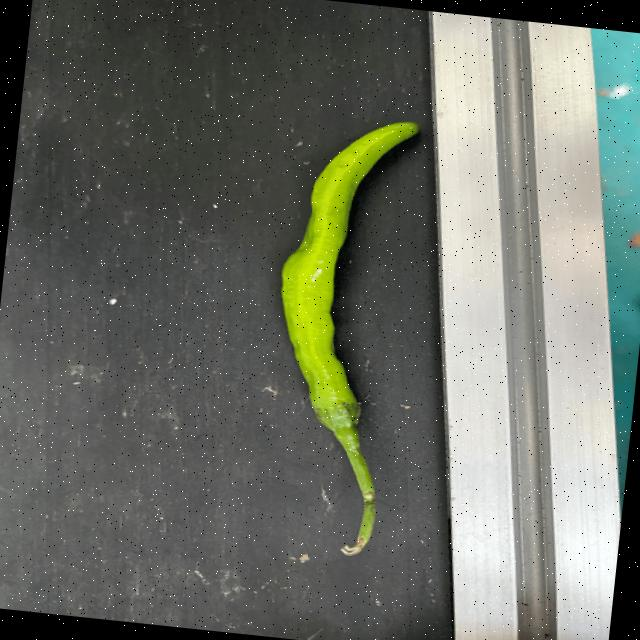chili: (279, 119, 424, 429)
